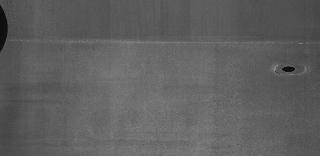punching hole: (278, 64, 300, 74)
welding line: (4, 37, 320, 49)
